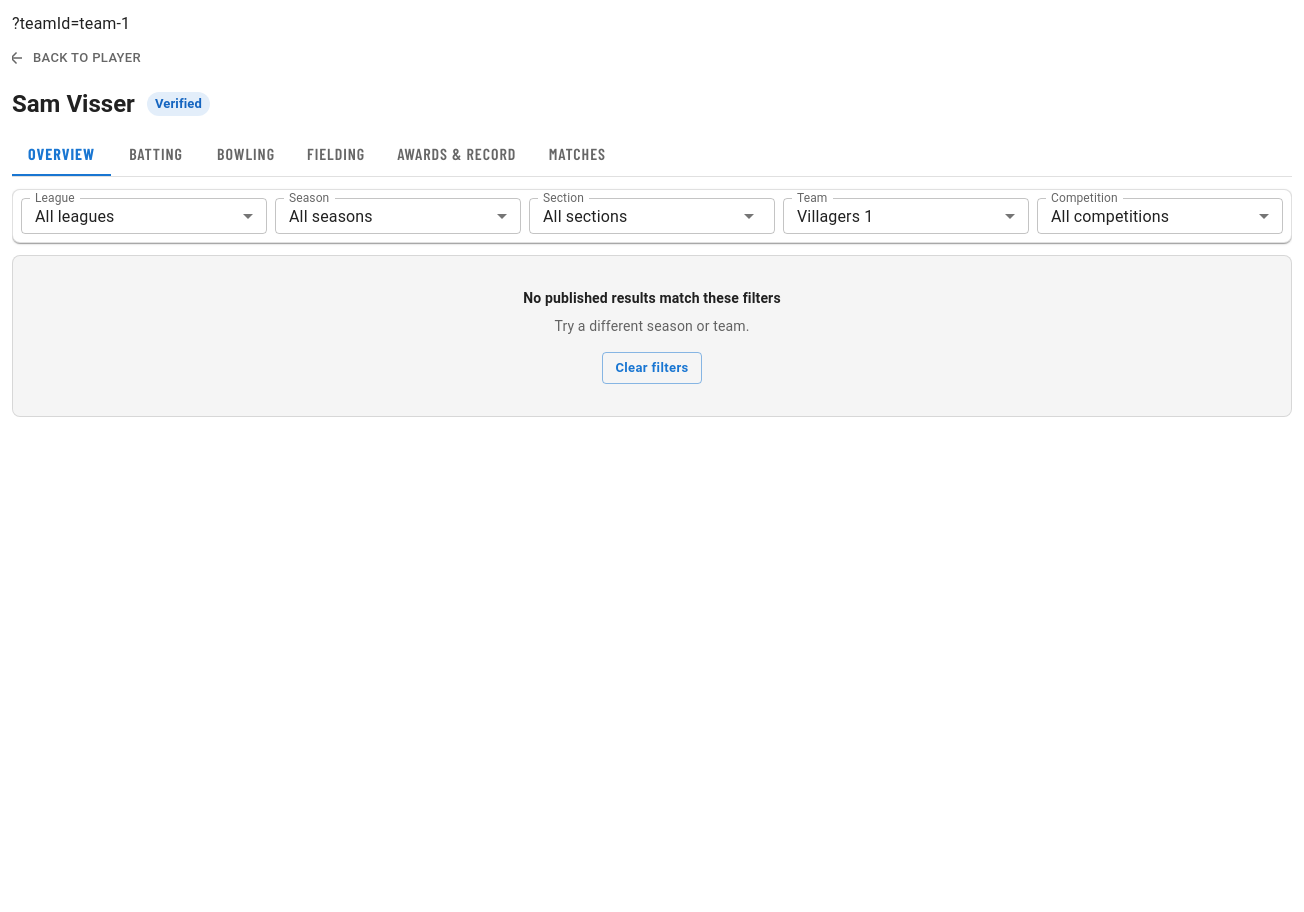
PlayerStatsPage › empty, loading and error states › when filters match nothing, says so and Clear filters resets every filter
expect the text "No published results match these filters" is shown: met, box x1=523 y1=288 x2=781 y2=308
What coordinates should you click on to do the following:
click the button "Clear filters"
I would click on:
 (652, 368)
Its box is x1=602 y1=352 x2=702 y2=384.
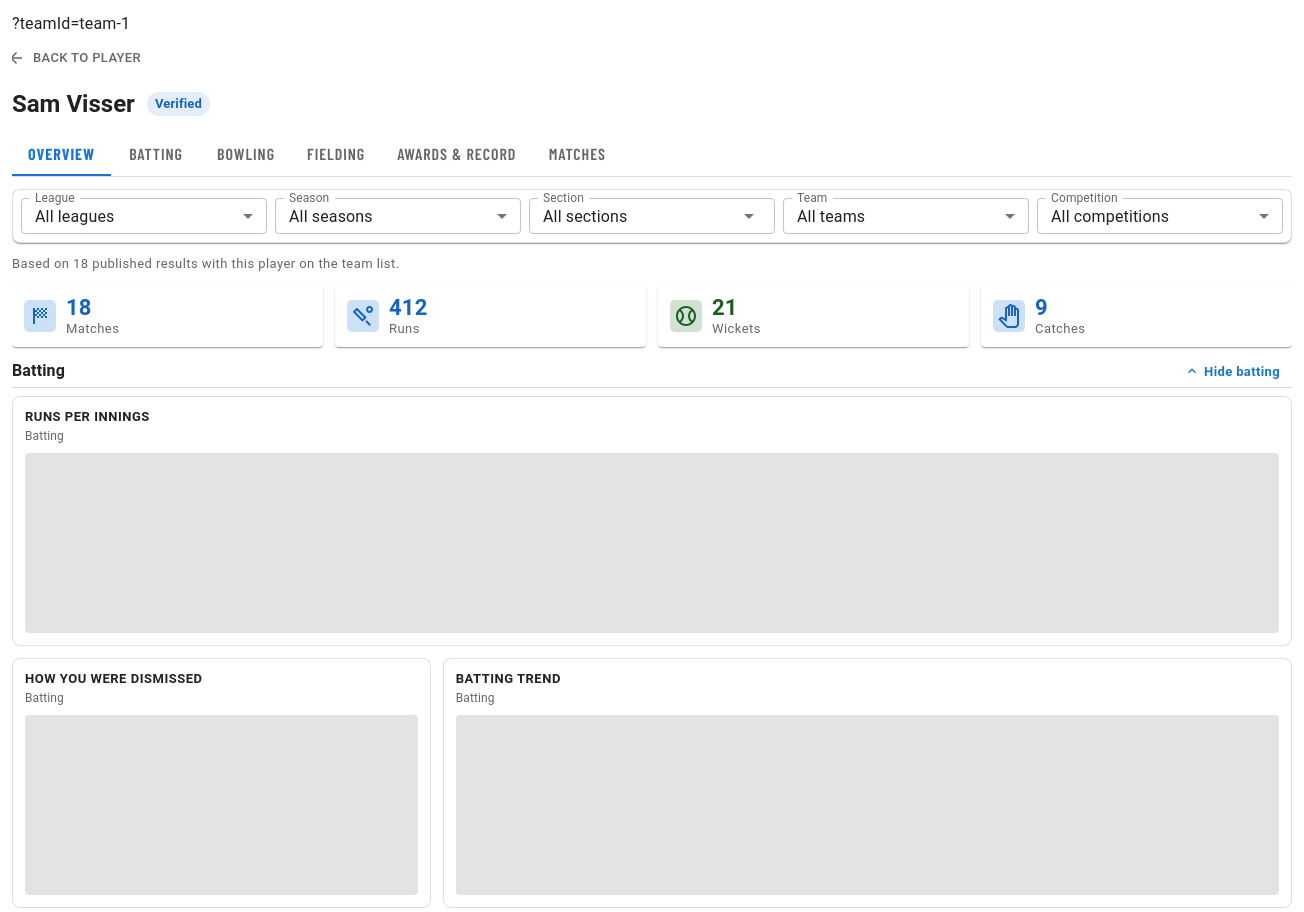
expect the text with test id "tile-runs-value" reads "412": met, box x1=389 y1=295 x2=428 y2=320
